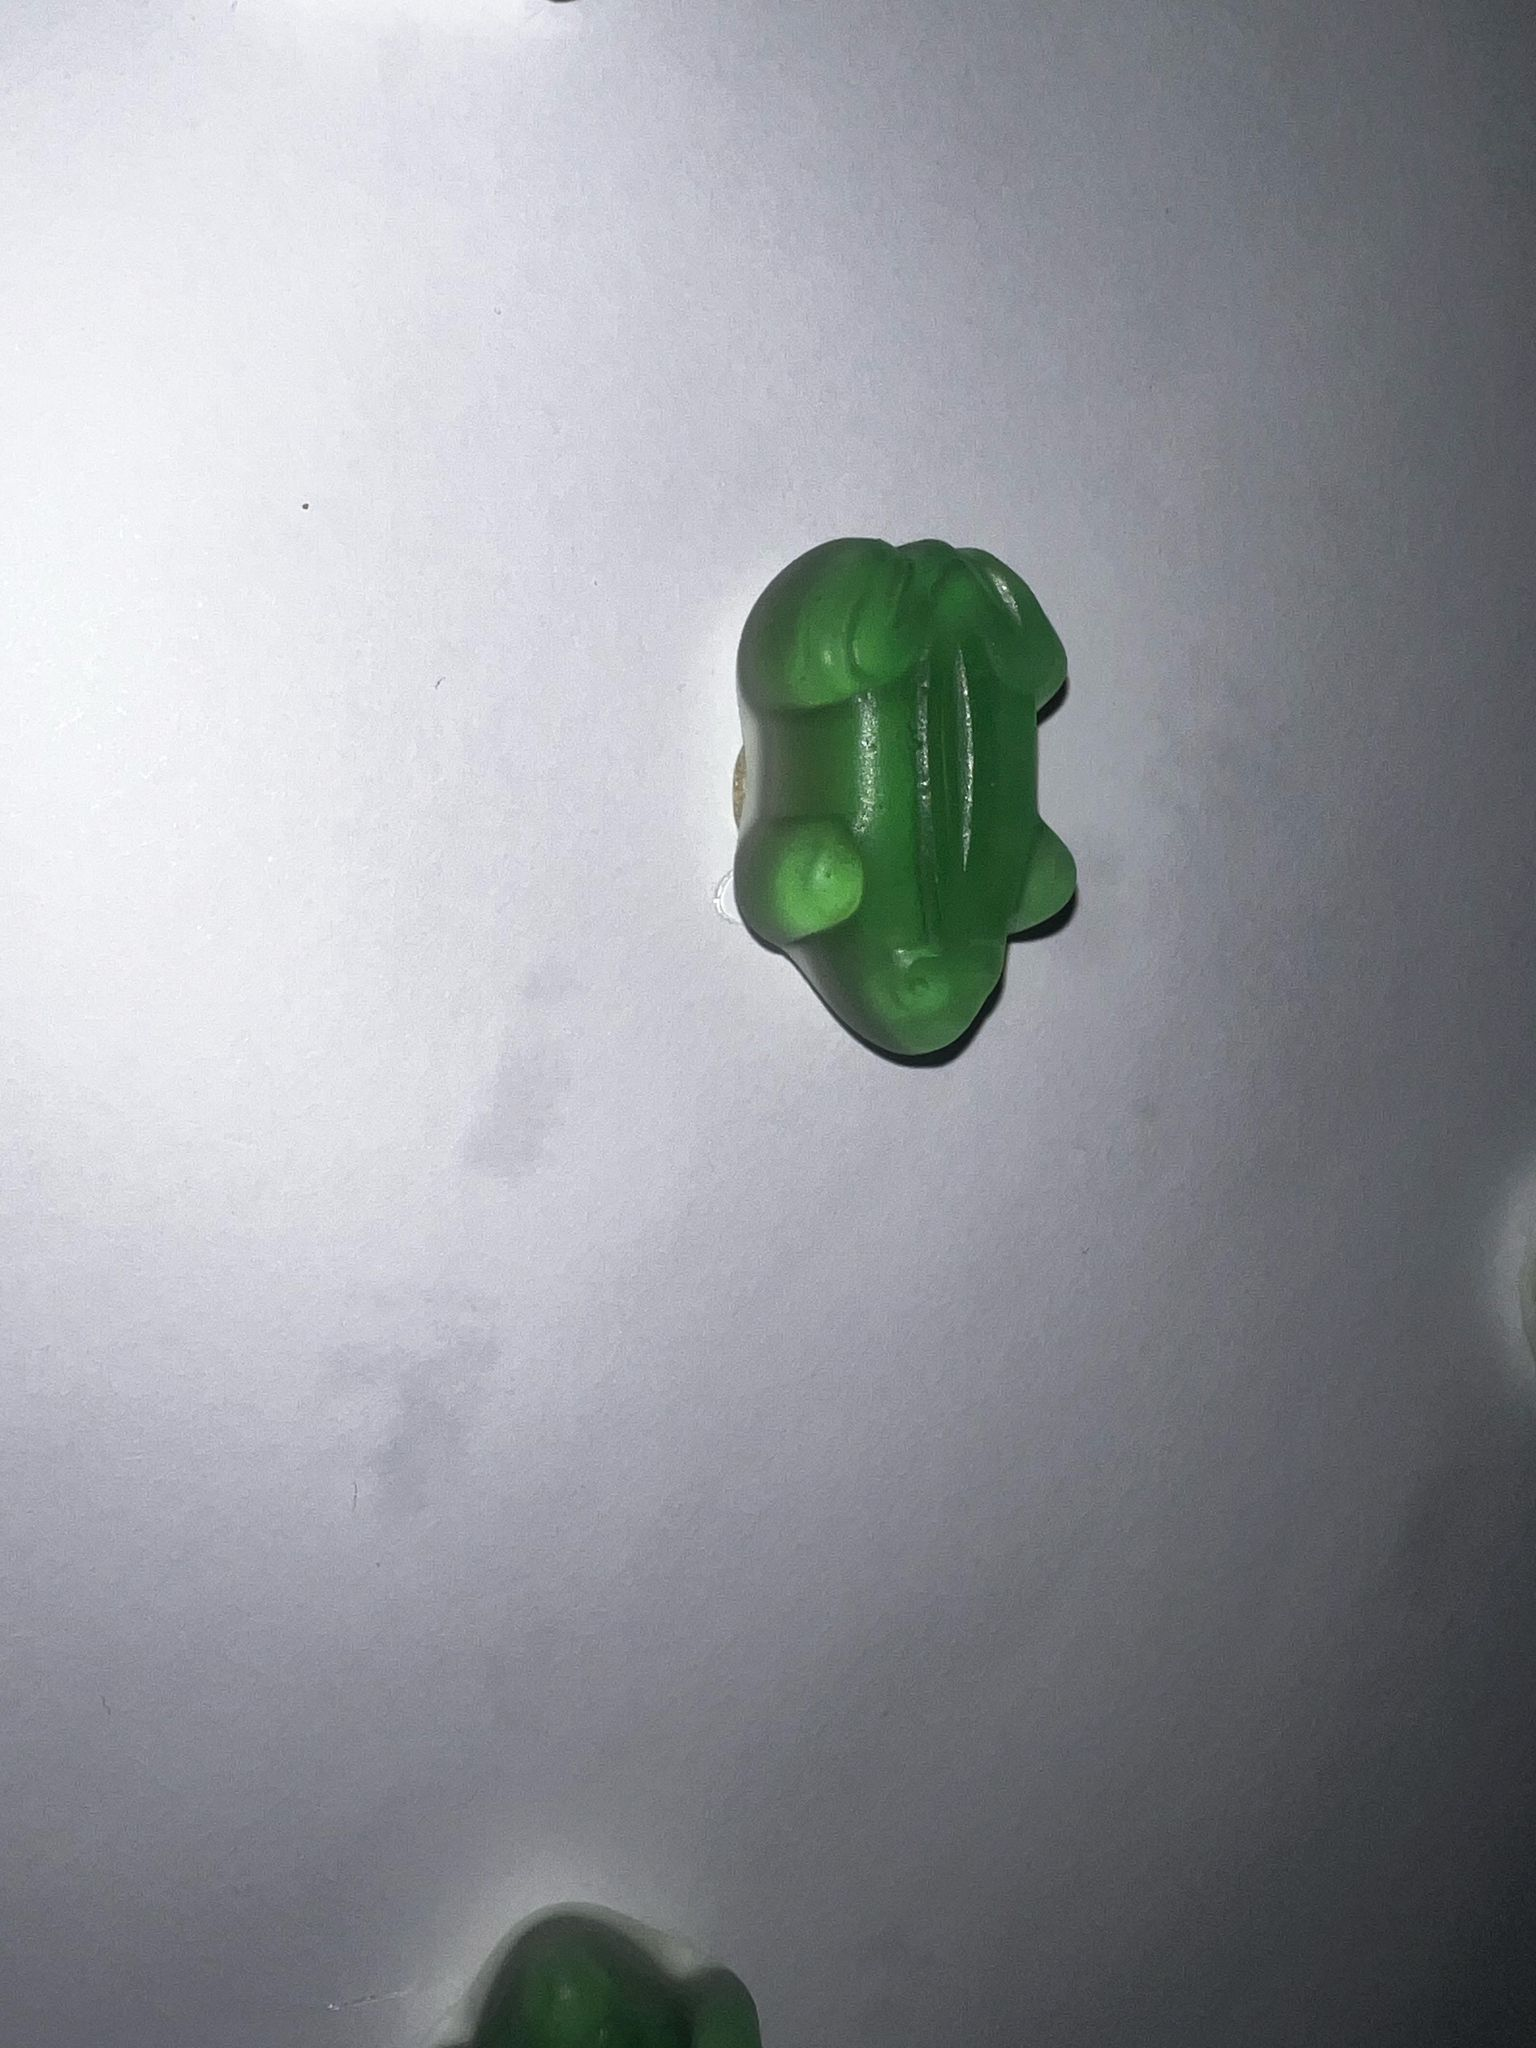frog: (726, 534, 1084, 1069)
